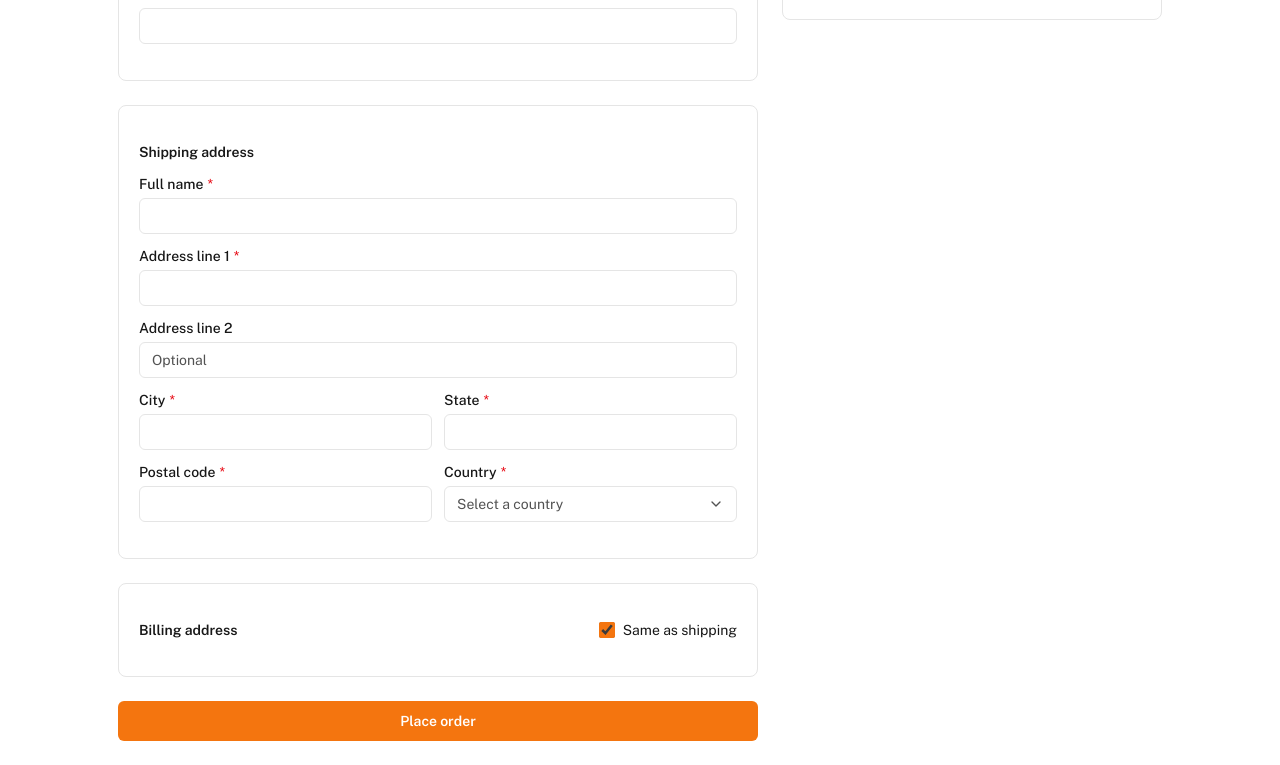
Test: checkout required fields › refuses to submit while a required field is missing
This screenshot has width=1280, height=765.
(page scrolled)
Click the button "Place order": (438, 721) [118,701,758,741]
(page scrolled)
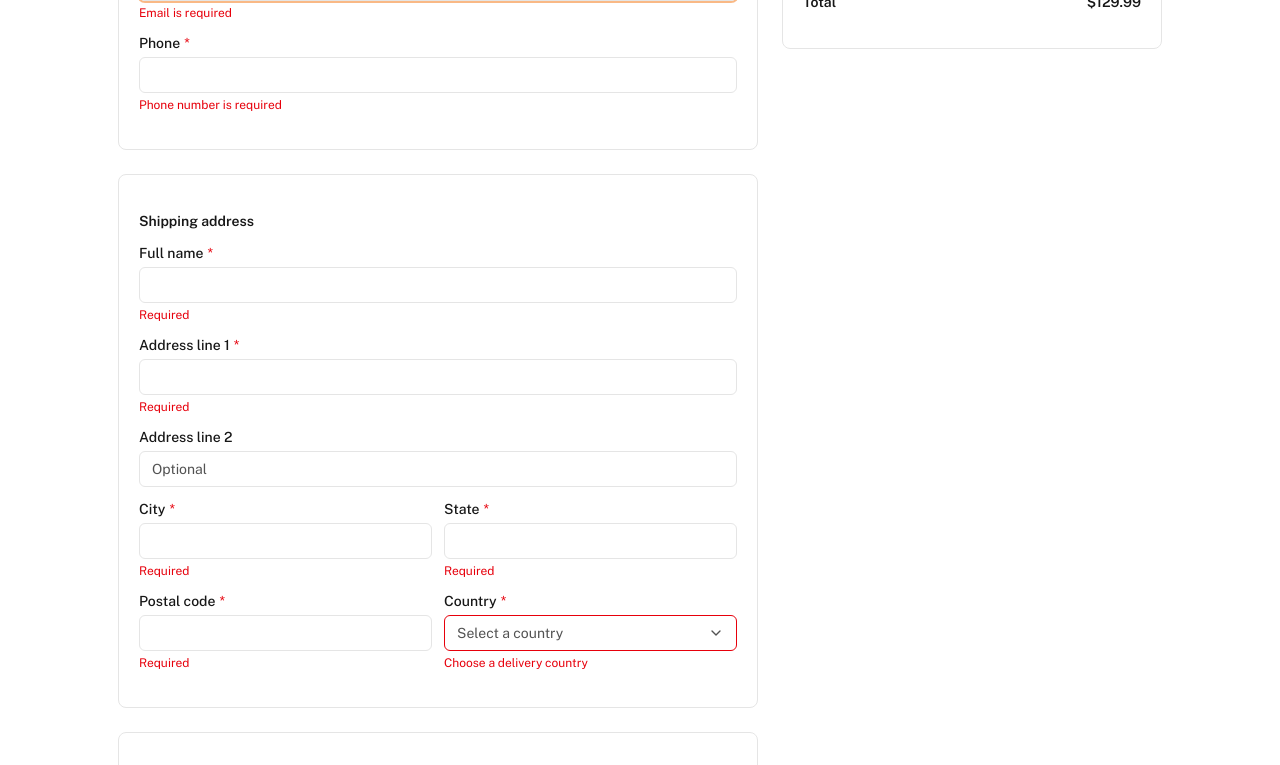
Expected: the text "Email is required" is shown, [139,6,232,20]
